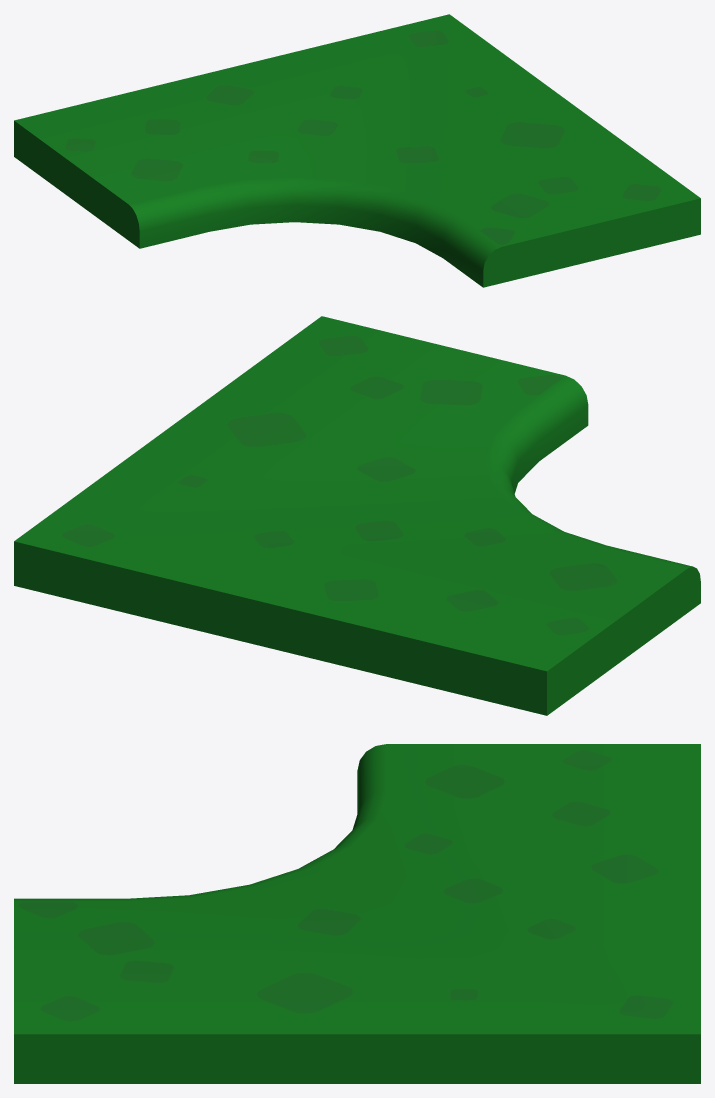
The model's file is GF_ICorner_1_3.obj.
3 renders of one model, top to bottom at view 1: azimuth 30°, elevation 25°; view 2: azimuth 150°, elevation 25°; view 3: azimuth 270°, elevation 25°, orthographic. The views are drawn at different scales.
Visible parts, largest first — view 1: GF_ICorner_1_3; view 2: GF_ICorner_1_3; view 3: GF_ICorner_1_3.
Part boxes in pixels (x1=…): GF_ICorner_1_3: x1=14, y1=14, x2=700, y2=287; GF_ICorner_1_3: x1=14, y1=316, x2=700, y2=715; GF_ICorner_1_3: x1=14, y1=744, x2=700, y2=1083.
Bounding box in the file's own units: 4 × 0.3187 × 4.
